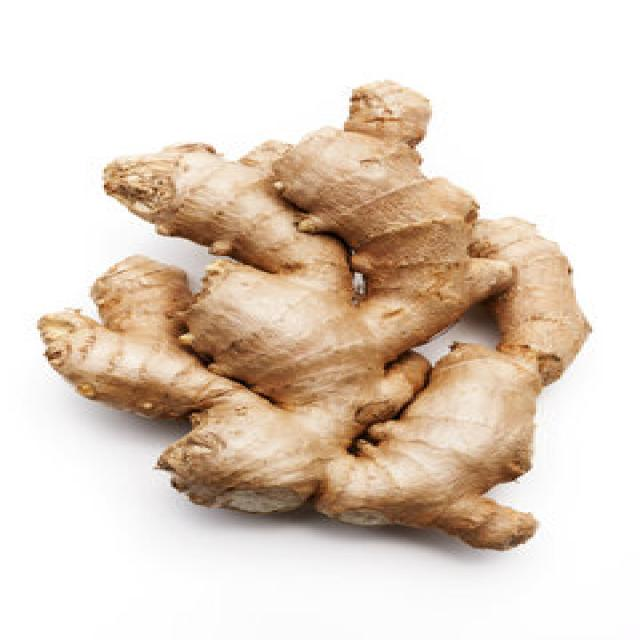Ginger: (35, 77, 592, 551)
